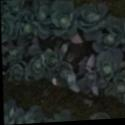cabbage: (7, 44, 21, 59), (57, 11, 70, 27), (50, 52, 62, 69), (100, 65, 114, 78), (24, 18, 33, 37), (105, 31, 118, 44), (3, 112, 16, 125), (32, 57, 43, 71), (83, 10, 96, 21), (1, 24, 12, 37), (36, 9, 47, 19), (87, 72, 95, 84)
